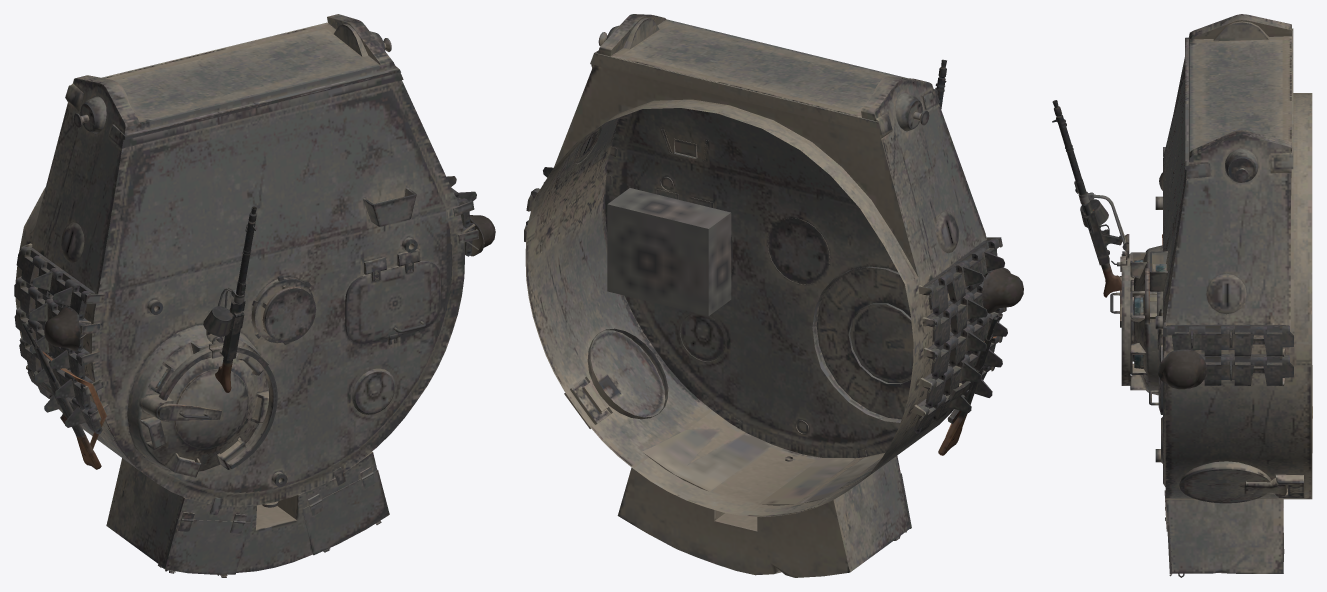
Rendered from Turret_02.glb.
The picture shows the model from 3 angles, left to right: view 1: azimuth 30°, elevation 25°; view 2: azimuth 150°, elevation 25°; view 3: azimuth 270°, elevation 25°; orthographic projection. The views are drawn at different scales.
Visible parts, largest first — view 1: set_0_group_0; view 2: set_0_group_0; view 3: set_0_group_0.
Part boxes in pixels (left/top/right/bottom): set_0_group_0: left=14, top=14, right=495, bottom=577; set_0_group_0: left=524, top=14, right=1023, bottom=577; set_0_group_0: left=1052, top=14, right=1312, bottom=577.
Size of the model in its own units: 2.78 by 2.93 by 1.47.
Materials: 1 (1 with a texture image).
